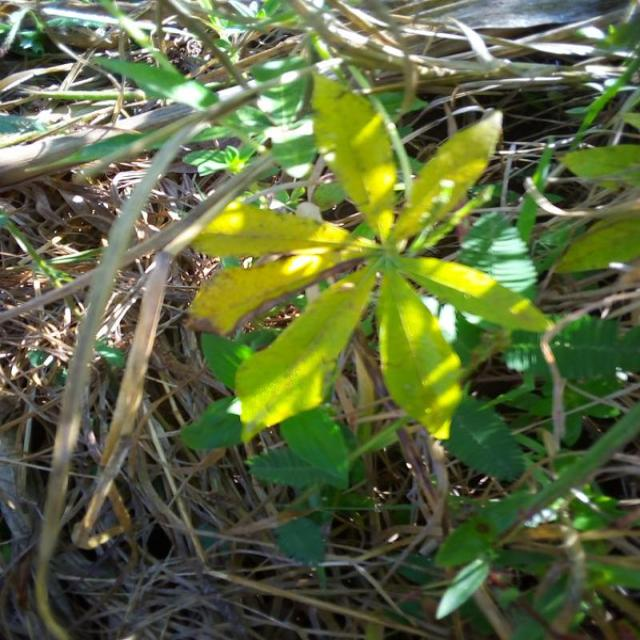cassava leaf: (184, 68, 554, 451)
